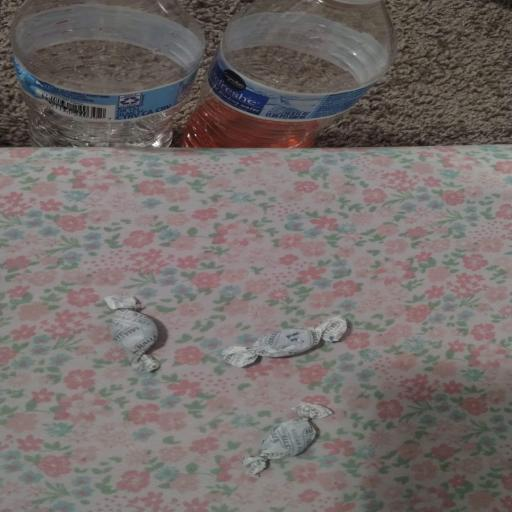chocolate: (243, 403, 332, 477), (223, 316, 347, 367), (105, 296, 159, 371)
waterbottle: (183, 0, 395, 147), (11, 0, 204, 147)
